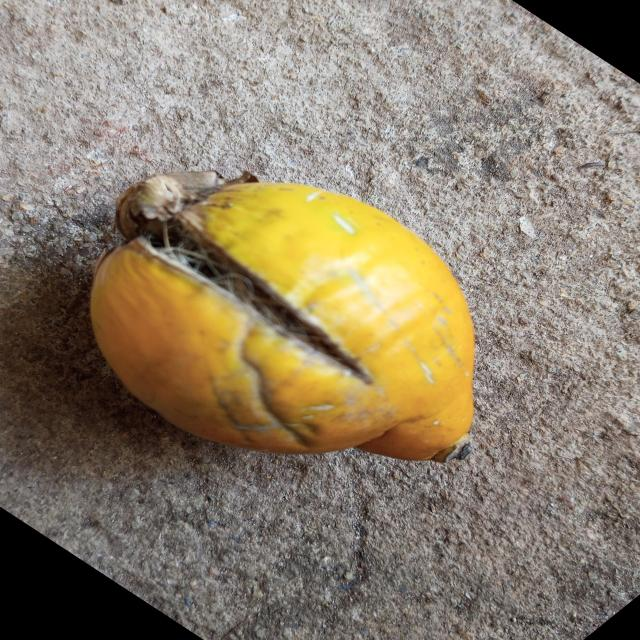damaged: (90, 175, 477, 464)
